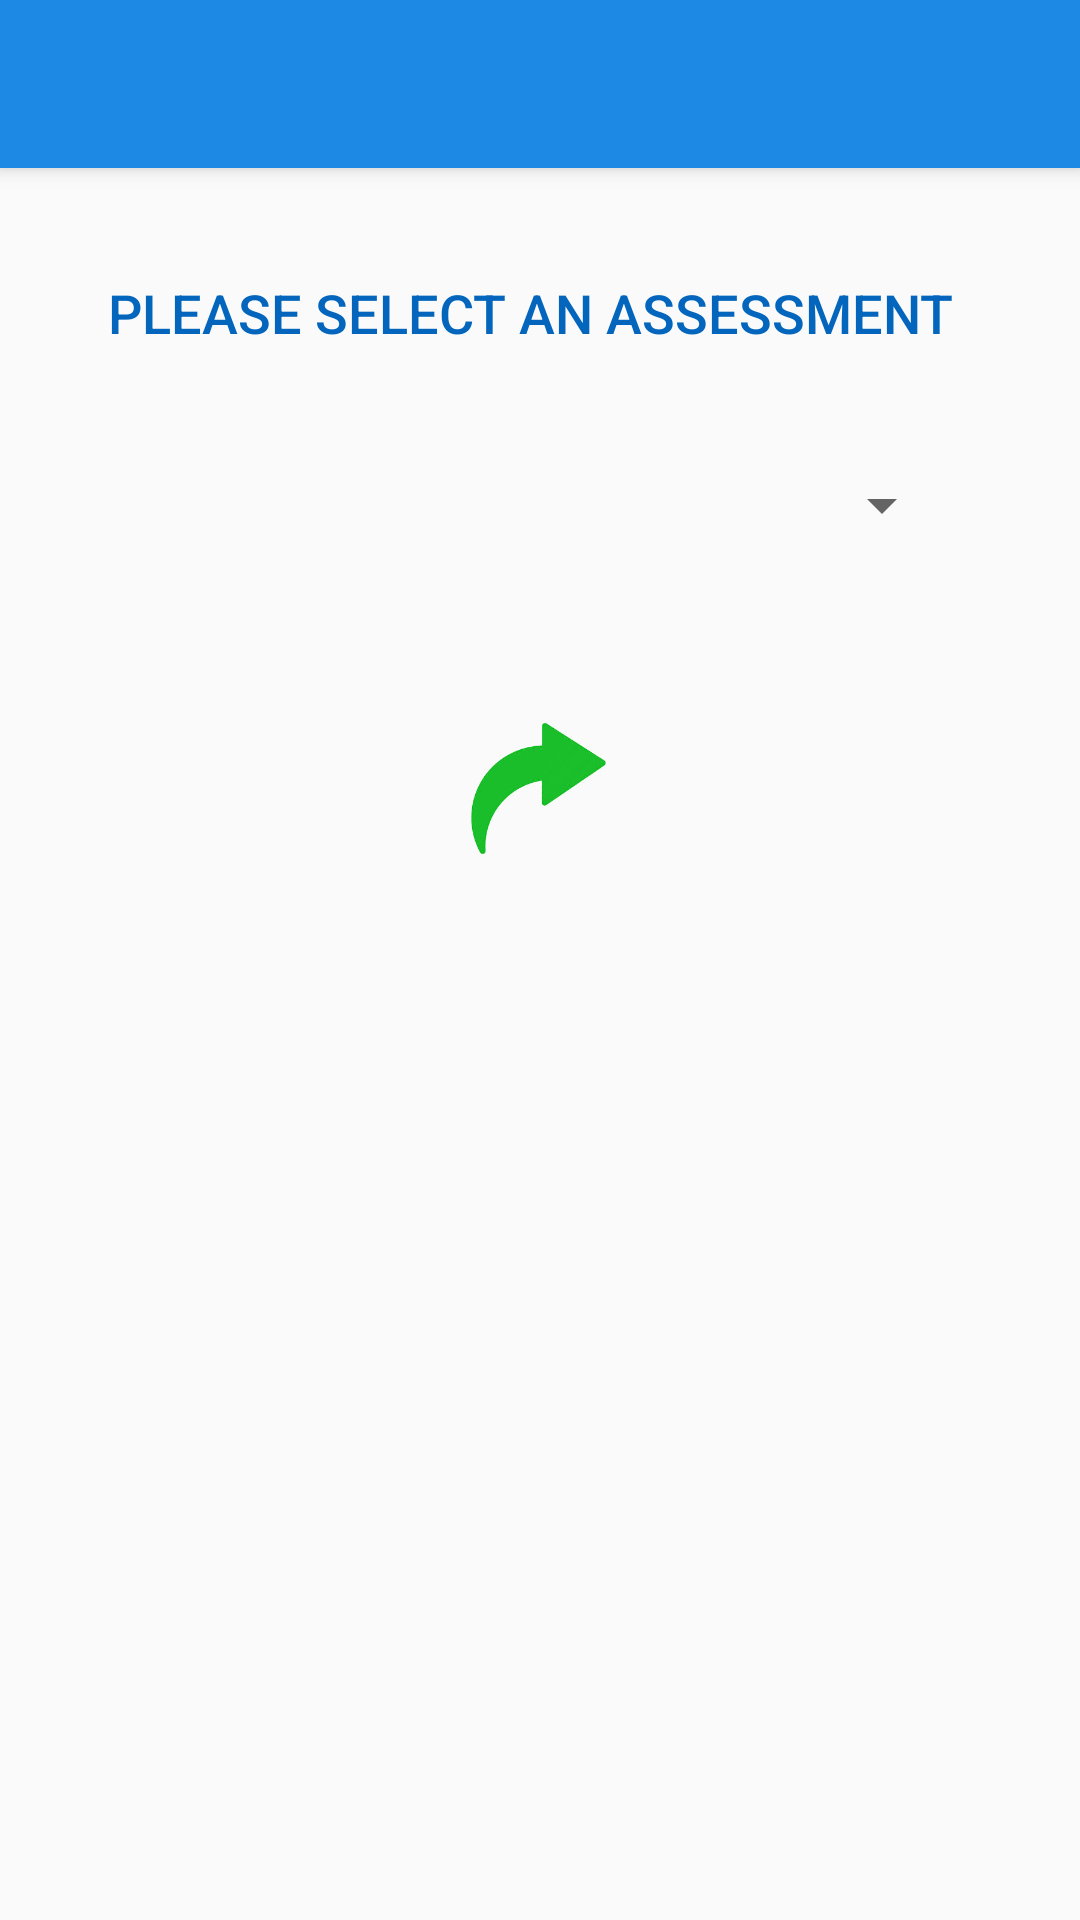

Locate icon controls on the screen. Image size 1080 x 1920, boxes as bbox=[x1, y1, x2, y2].
forwardqq: bbox=[471, 722, 606, 854]
